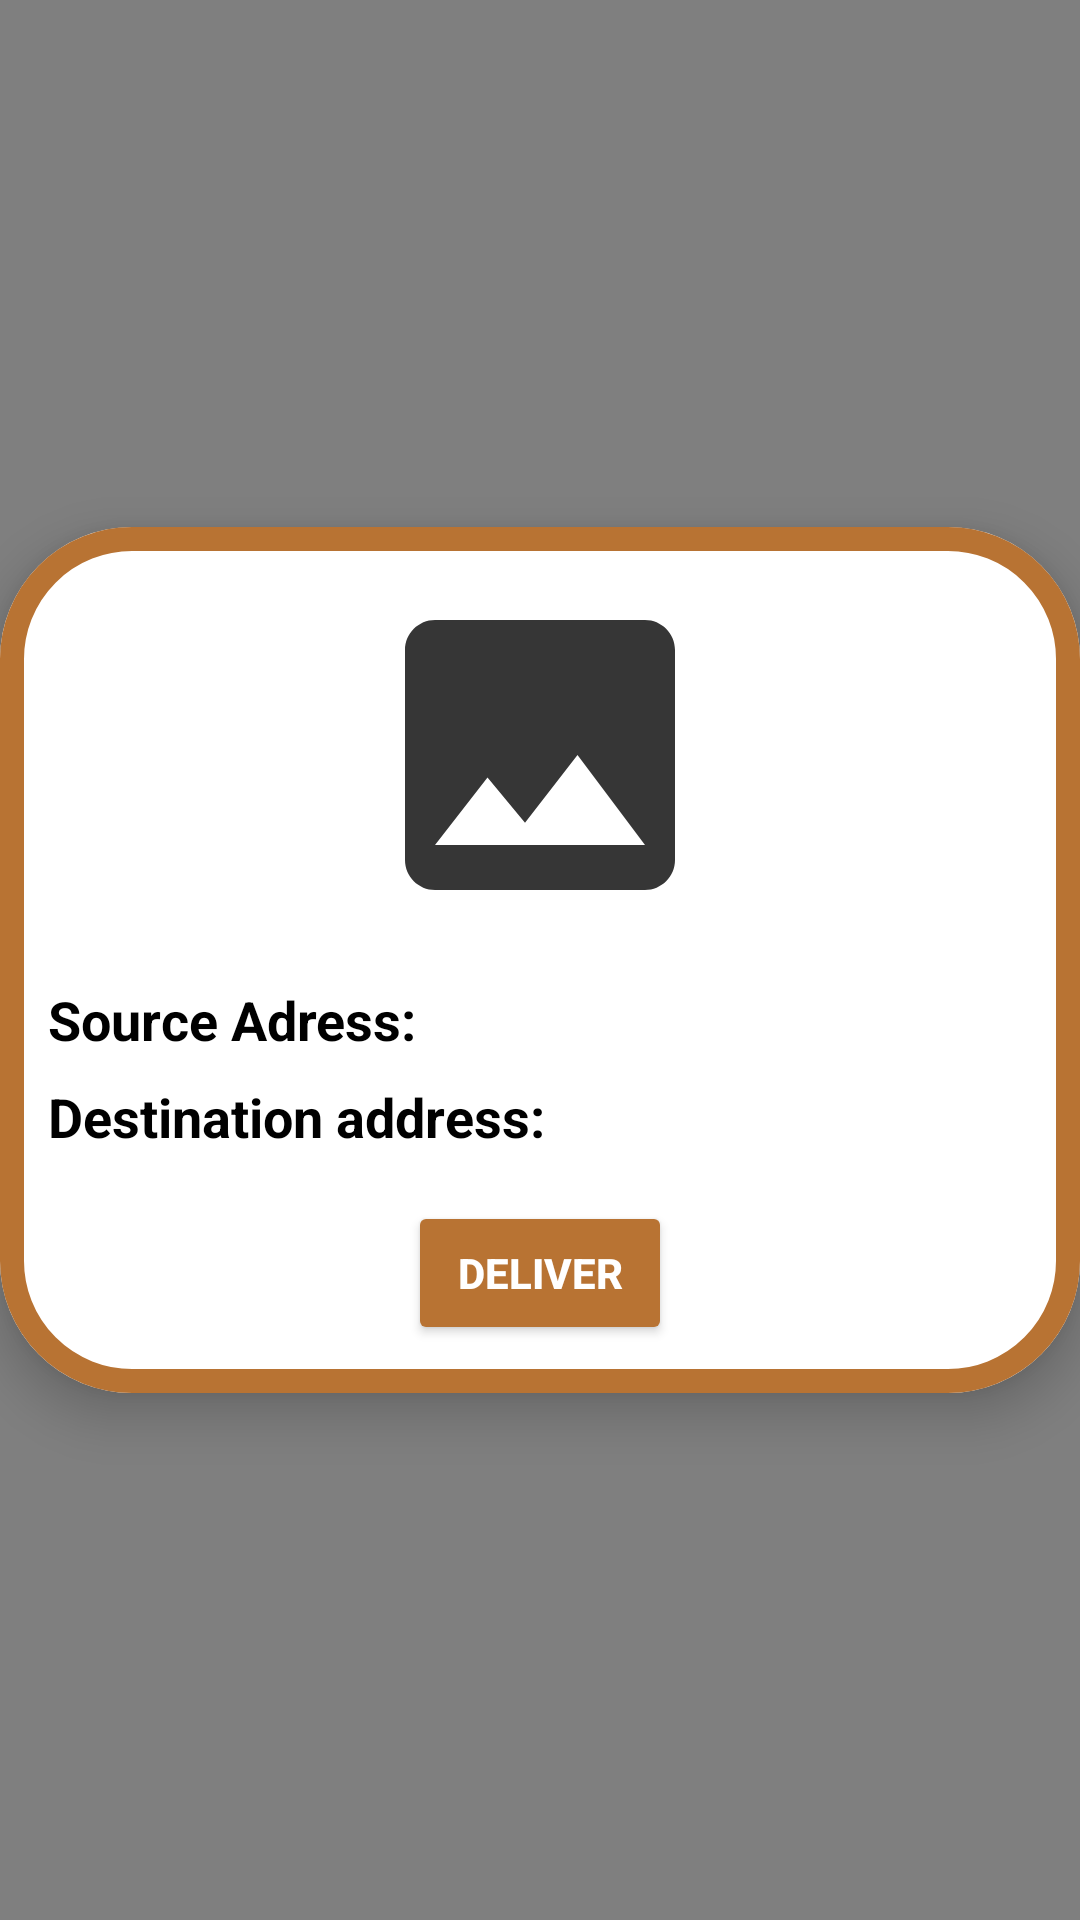

Icon click points for this 1080 x 1920 phone screenshot, format point (x, y):
Item Image: point (540, 755)
